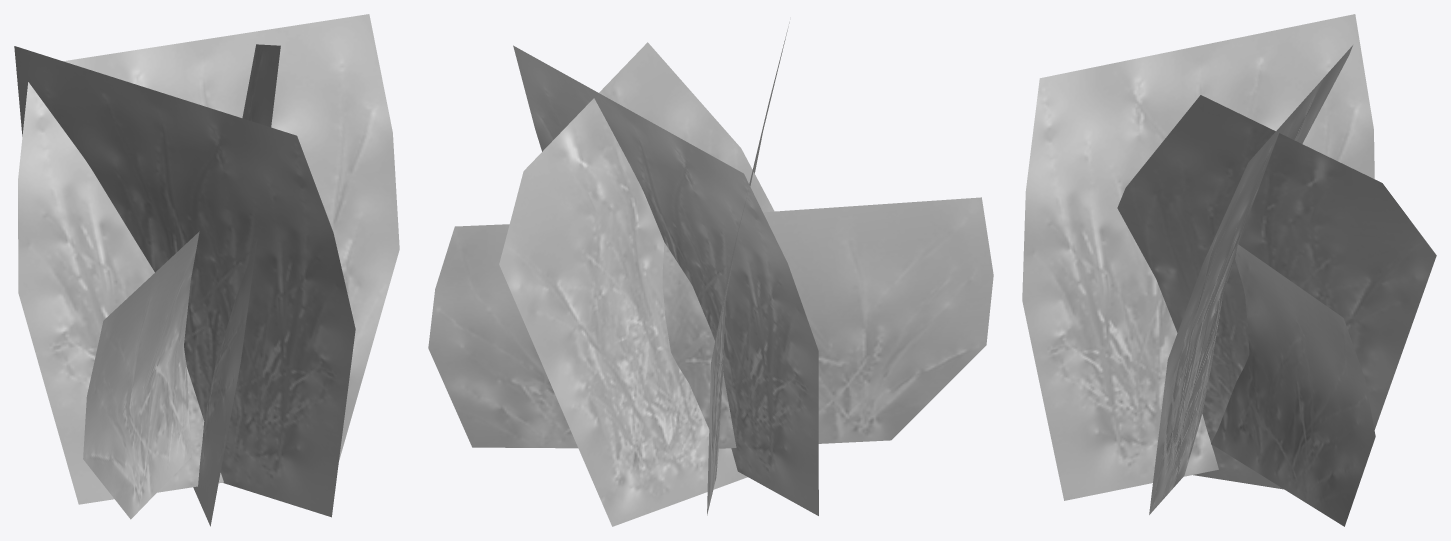
The model's file is Meadow_Grass_01_Var1_LOD0_fixed.fbx.
3 views of the same model, side by side, from view 1: azimuth 30°, elevation 25°; view 2: azimuth 150°, elevation 25°; view 3: azimuth 270°, elevation 25° (orthographic).
Visible parts, largest first — view 1: Meadow_Grass_01_Var1_LOD0_fixed; view 2: Meadow_Grass_01_Var1_LOD0_fixed; view 3: Meadow_Grass_01_Var1_LOD0_fixed.
Boxes of the visible parts, x1,y1,x2,y2 form: Meadow_Grass_01_Var1_LOD0_fixed: (14, 14, 399, 526); Meadow_Grass_01_Var1_LOD0_fixed: (428, 22, 993, 526); Meadow_Grass_01_Var1_LOD0_fixed: (1022, 14, 1436, 526).
Size of the model in its own units: 57.17 by 57.33 by 50.79.
